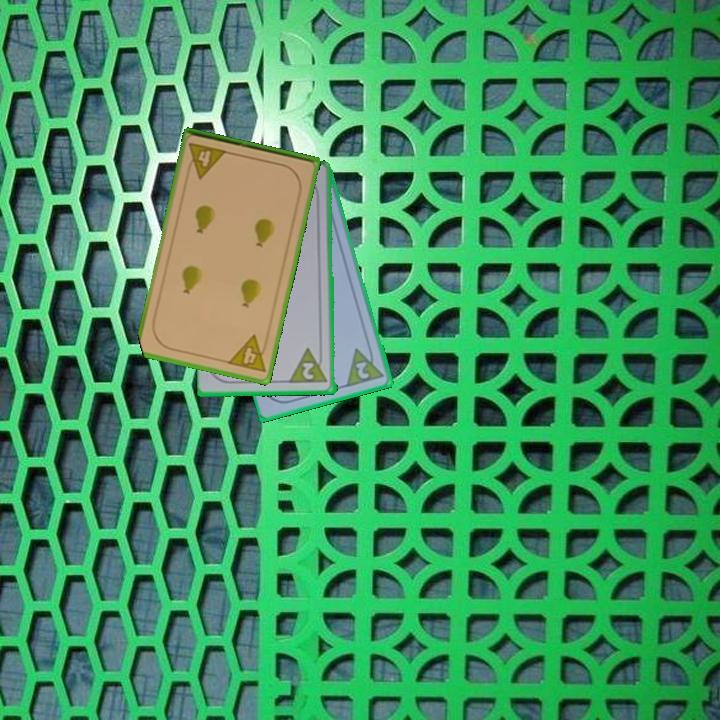2p: (352, 358, 373, 382), (299, 359, 317, 383)
4p: (224, 331, 272, 375), (183, 139, 230, 181)
